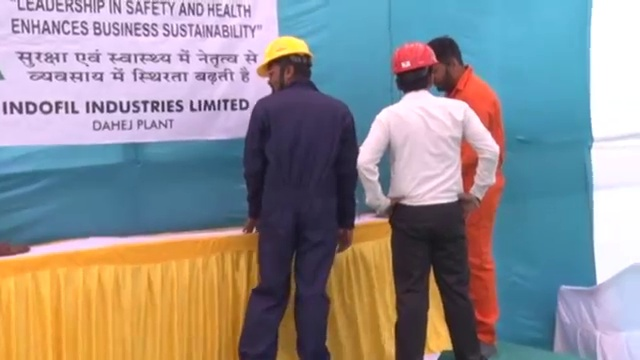helmet: (256, 34, 314, 78), (391, 42, 439, 76)
helmet_off: (429, 35, 469, 92)
helmet_on: (255, 33, 315, 93), (389, 40, 439, 98)
person: (354, 41, 501, 360), (241, 33, 359, 360), (427, 32, 505, 360)
